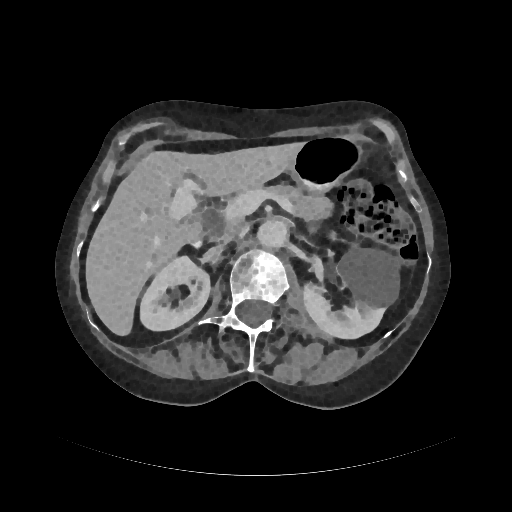Lesion: (337, 248, 403, 310)
